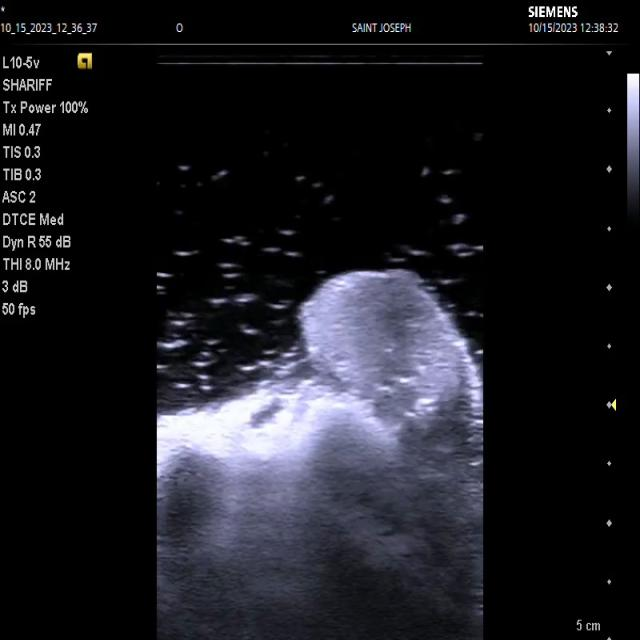tissue: (158, 270, 484, 640)
